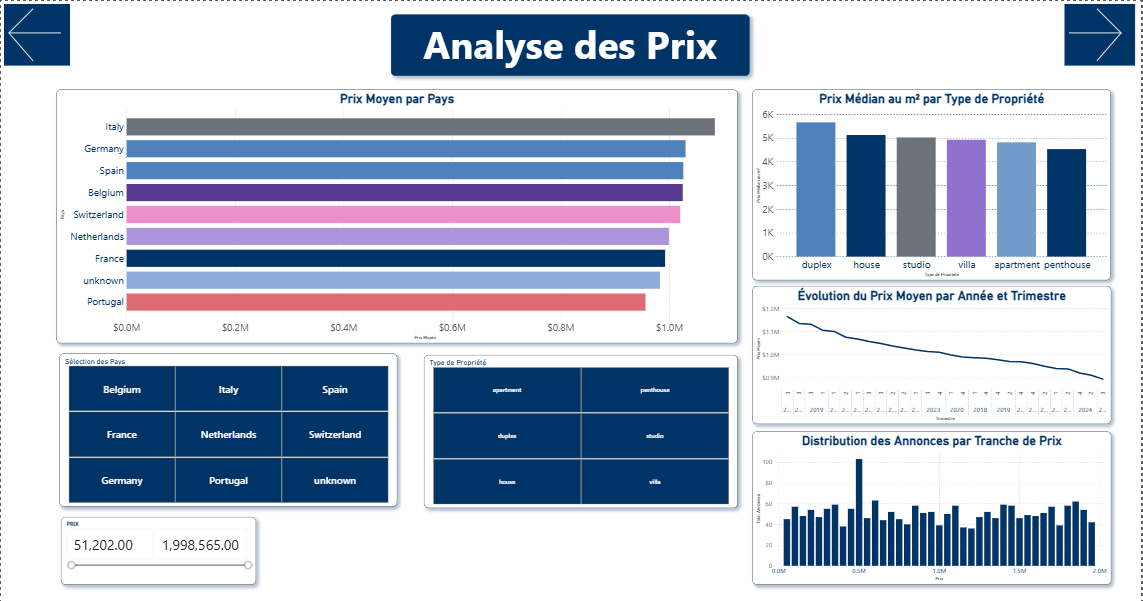

Layout of this report page (visuals, bound fields, positions):
{"tool":"powerbi","page":{"name":"Analyse des Prix","canvas":[3800,2000],"ordinal":1},"visuals":[{"type":"slicer","fields":{"Values":["DIM_PROPERTY.PROPERTY_TYPE"]},"box":[1410,1180,1045,510],"z":0},{"type":"slicer","fields":{"Values":["FACT_LISTINGS.PRICE"]},"box":[200,1720,650,225],"z":1000},{"type":"clusteredBarChart","title":"Prix Moyen par Pays","fields":{"Category":["DIM_LOCATION.COUNTRY","DIM_LOCATION.CITY"],"Y":["_Measures.Prix_Moyen"]},"box":[185,295,2270,845],"z":2000},{"type":"columnChart","title":"Prix Médian au m² par Type de Propriété","fields":{"Category":["DIM_PROPERTY.PROPERTY_TYPE"],"Y":["_Measures.Prix_Median_m2"]},"box":[2505.9,294.1,1194.1,635.3],"z":3000},{"type":"lineChart","title":"Évolution du Prix Moyen par Année et Trimestre","fields":{"Category":["DIM_DATE.YEAR","DIM_DATE.QUARTER"],"Y":["_Measures.Prix_Moyen"]},"box":[2505,950,1195,460],"z":4000},{"type":"clusteredColumnChart","title":"Distribution des Annonces par Tranche de Prix","fields":{"Category":["FACT_LISTINGS.PRICE (bins)"],"Y":["_Measures.Total_Annonces"]},"box":[2505,1435,1195,510],"z":5000},{"type":"textbox","box":[1300,43.5,1195.7,204.3],"z":6000},{"type":"actionButton","box":[3545,10,235,205],"z":8000},{"type":"actionButton","box":[10,10,220,205],"z":9000},{"type":"slicer","fields":{"Values":["DIM_LOCATION.COUNTRY"]},"box":[195,1175,1125,510],"z":10000}]}

Visuals, with their boxes in screenshot pixels (x1, y1, x2, y2), scaled from the page's 3800x2000 canvas onto the 1143x601 screenshot:
slicer - DIM_PROPERTY.PROPERTY_TYPE: 424,355,738,508
slicer - FACT_LISTINGS.PRICE: 60,517,256,584
"Prix Moyen par Pays" clusteredBarChart: 56,89,738,343
"Prix Médian au m² par Type de Propriété" columnChart: 754,88,1113,279
"Évolution du Prix Moyen par Année et Trimestre" lineChart: 753,285,1113,424
"Distribution des Annonces par Tranche de Prix" clusteredColumnChart: 753,431,1113,584
textbox: 391,13,751,74
actionButton: 1066,3,1137,65
actionButton: 3,3,69,65
slicer - DIM_LOCATION.COUNTRY: 59,353,397,506
